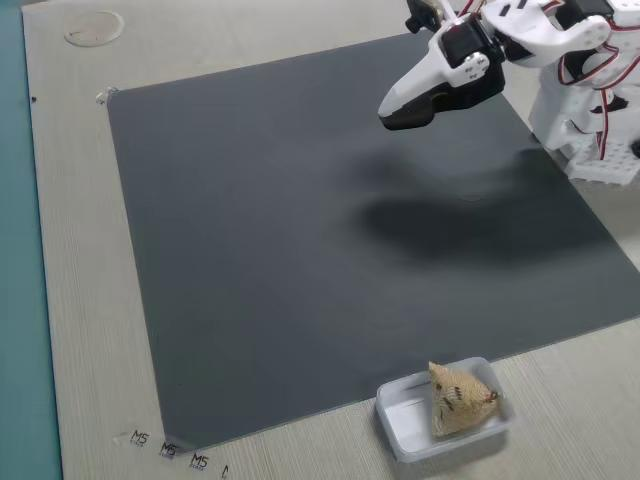gripper: (347, 4, 507, 129)
